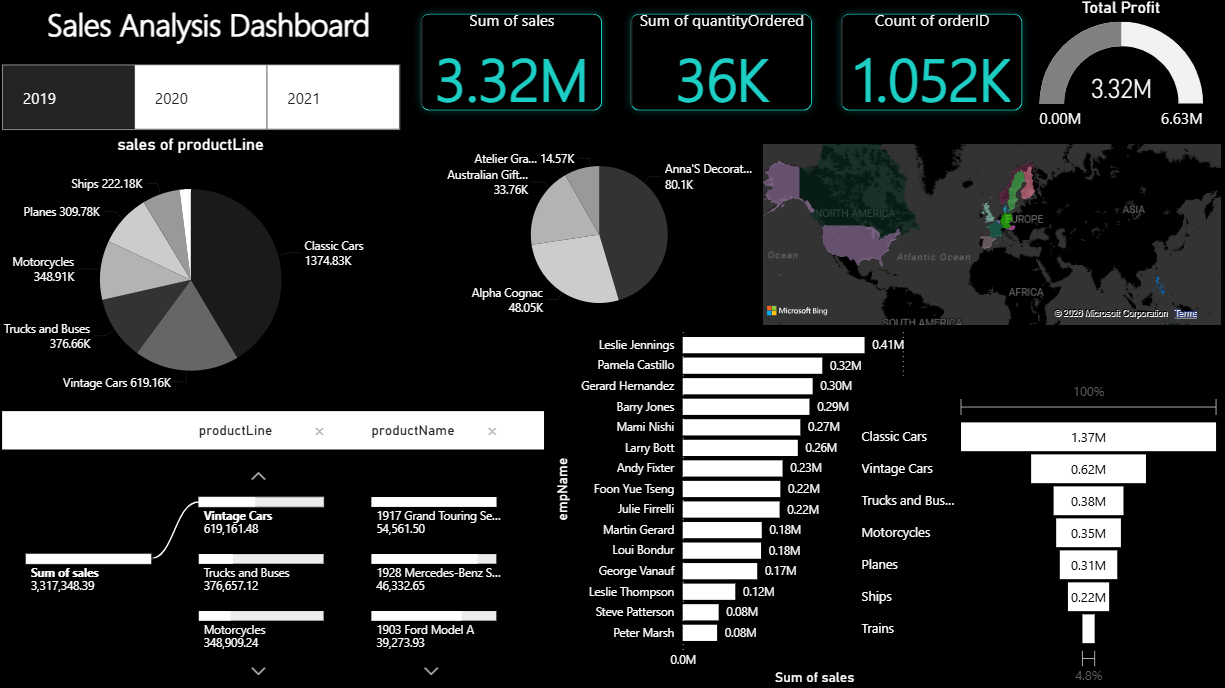

The dashboard page shown, as its layout file describes it:
{"tool":"powerbi","page":{"name":"dashboard","canvas":[1280,720],"ordinal":0},"visuals":[{"type":"pieChart","title":" sales of productLine","fields":{"Category":["Products.productLine"],"Y":["Sum(OrderDetails.sales)"]},"box":[0,142.2,403.3,282.9],"z":0},{"type":"barChart","fields":{"Category":["Employees.empName"],"Y":["Sum(OrderDetails.sales)"]},"box":[574.9,330.8,433.1,389],"z":1000},{"type":"funnel","fields":{"Category":["Products.productLine"],"Y":["Sum(OrderDetails.sales)"]},"box":[896.2,393.8,384.3,326],"z":2000},{"type":"decompositionTreeVisual","fields":{"Analyze":["Sum(OrderDetails.sales)"],"ExplainBy":["Products.productLine","Products.productName"]},"box":[0,425.3,574.9,294.5],"z":3000},{"type":"advancedSlicerVisual","fields":{"Values":["Orders 2019-2021.orderDate.Variation.Date Hierarchy.Year"]},"box":[0,64.1,425.1,78.1],"z":4000},{"type":"textbox","box":[0,0,441,66.2],"z":5000},{"type":"gauge","title":"Total Profit","fields":{"Y":["Sum(OrderDetails.sales)"]},"box":[1063.3,0,216.7,145.8],"z":6000},{"type":"filledMap","fields":{"Category":["Customers.country"],"Series":["OrderDetails.sales"]},"box":[792.3,146.5,488.3,198.5],"z":7000},{"type":"pieChart","fields":{"Category":["Customers.customerName"],"Y":["Sum(OrderDetails.sales)"]},"box":[463.1,146.5,329.2,198.5],"z":8000},{"type":"cardVisual","fields":{"Data":["Sum(OrderDetails.sales)","Sum(OrderDetails.quantityOrdered)","CountNonNull(OrderDetails.orderID)"]},"box":[425.3,0,660.3,133.7],"z":8001}]}

Visuals, with their boxes in screenshot pixels (x1, y1, x2, y2), scaled from the page's 1280x720 canvas onto the 1225x688 screenshot:
" sales of productLine" pieChart: crop(0, 136, 386, 406)
barChart - Employees.empName x Sum(OrderDetails.sales): crop(550, 316, 965, 687)
funnel - Products.productLine x Sum(OrderDetails.sales): crop(858, 376, 1224, 687)
decompositionTreeVisual - Sum(OrderDetails.sales) x Products.productLine: crop(0, 406, 550, 687)
advancedSlicerVisual - Orders 2019-2021.orderDate.Variation.Date Hierarchy.Year: crop(0, 61, 407, 136)
textbox: crop(0, 0, 422, 63)
"Total Profit" gauge: crop(1018, 0, 1224, 139)
filledMap - Customers.country x OrderDetails.sales: crop(758, 140, 1224, 330)
pieChart - Customers.customerName x Sum(OrderDetails.sales): crop(443, 140, 758, 330)
cardVisual - Sum(OrderDetails.sales) x Sum(OrderDetails.quantityOrdered): crop(407, 0, 1039, 128)
